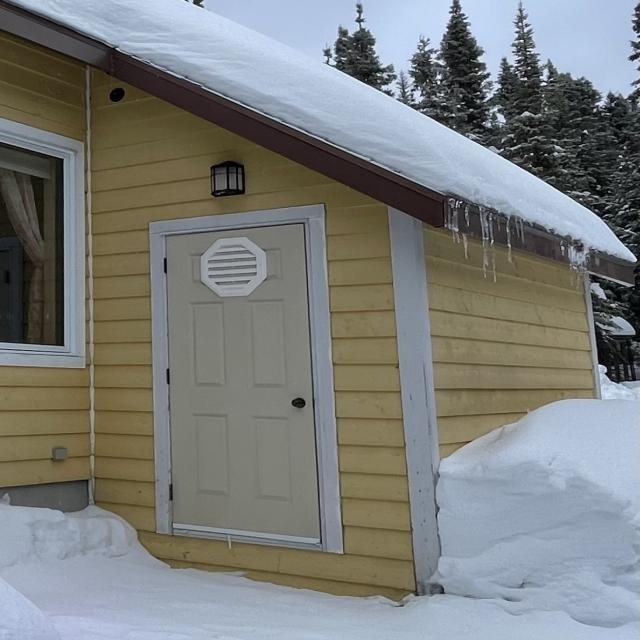door-knob: (291, 398, 306, 409)
